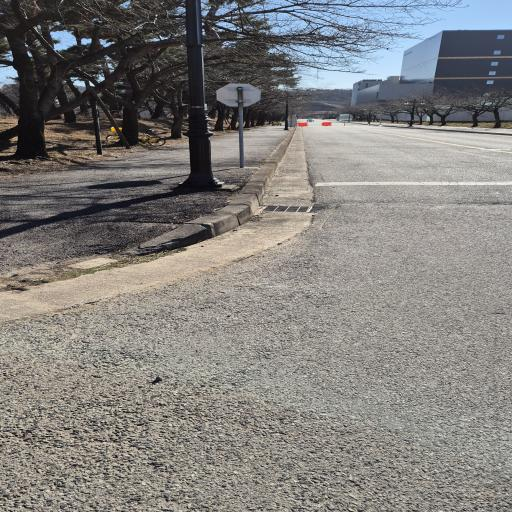drain: (263, 205, 312, 213)
